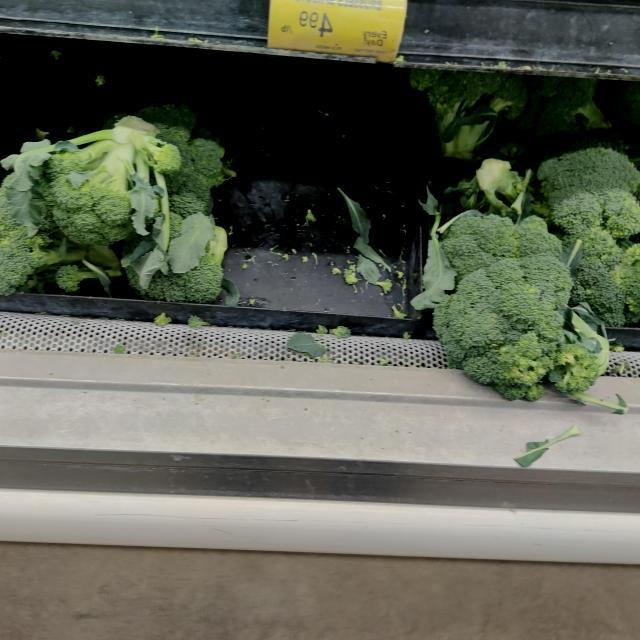broccoli: (416, 224, 610, 410), (38, 111, 182, 257), (511, 122, 640, 248), (0, 165, 109, 308), (124, 186, 251, 306)
